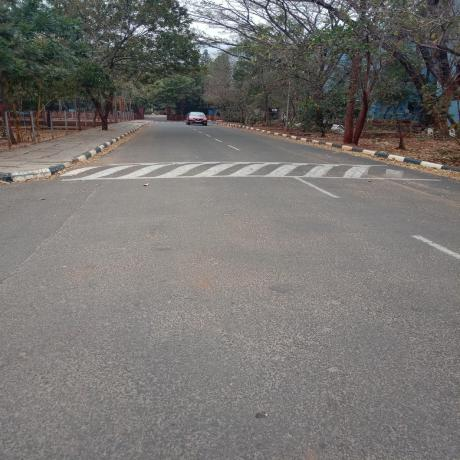Speed Bump: (55, 161, 446, 180)
